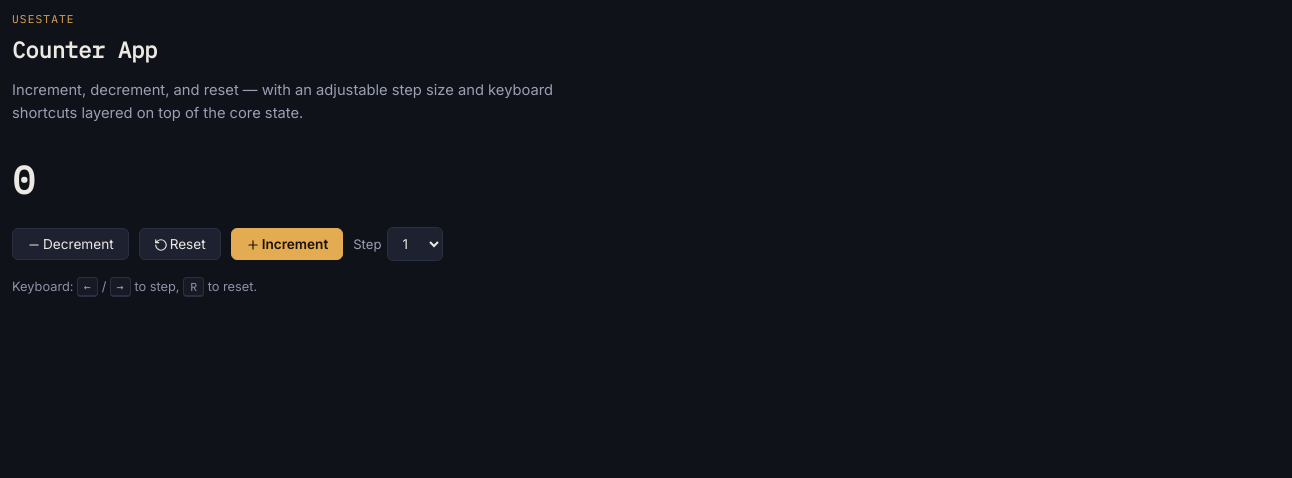
Test: Task5_CounterApp › increments the count
The image size is (1292, 478).
Click the button "Increment" at (287, 244), box [231, 228, 343, 260]
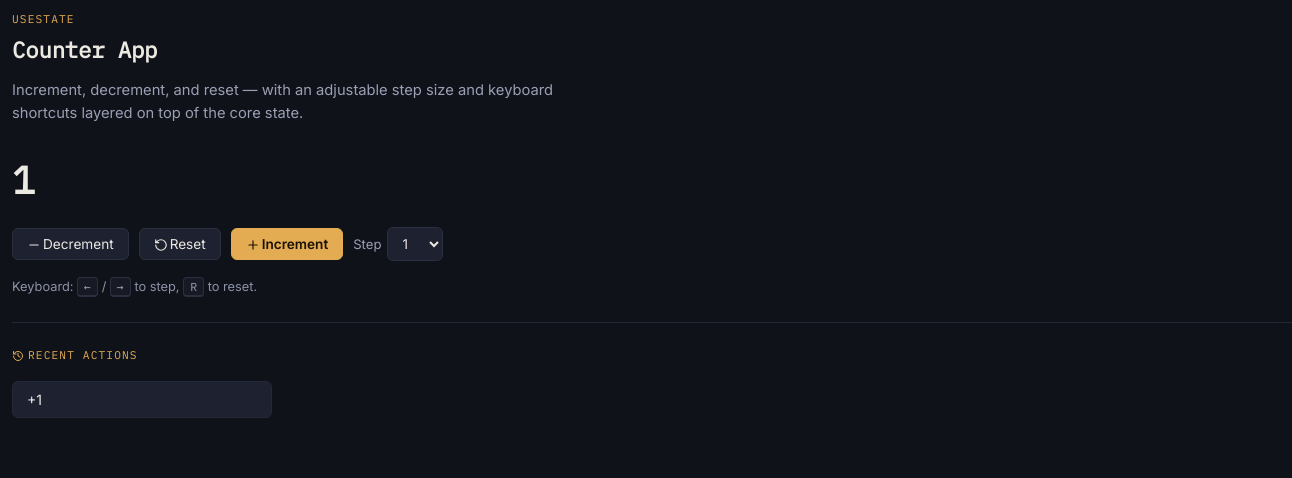
Click the button "Increment" at (287, 244), box [231, 228, 343, 260]
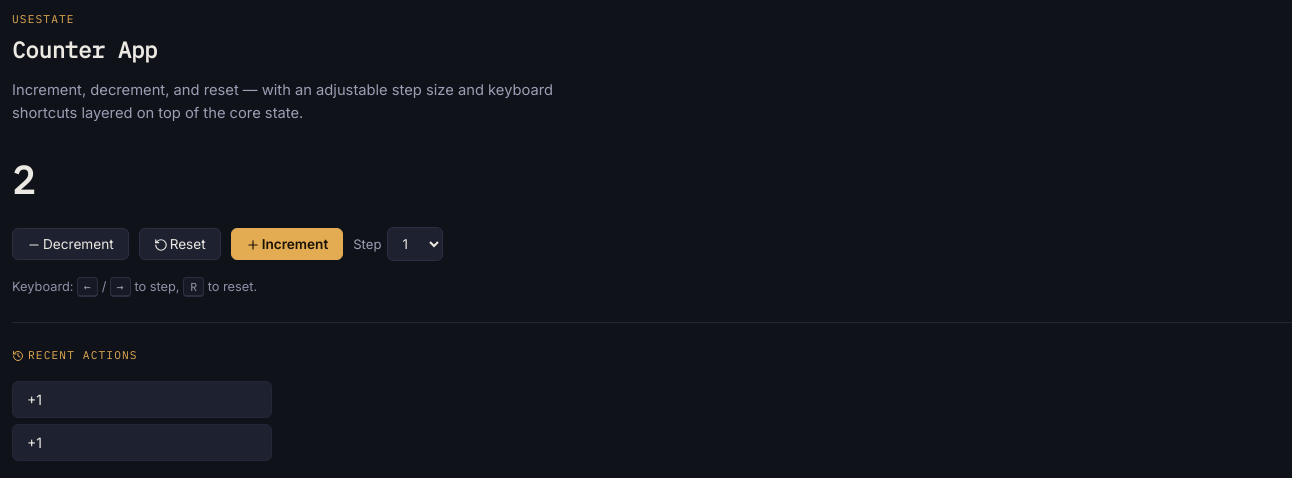
Expected: the text "2" is shown, [12, 155, 35, 205]
